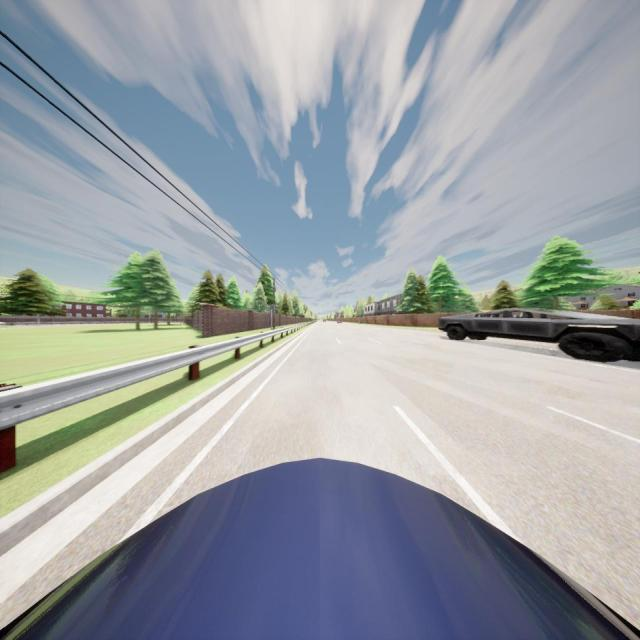Traffic_Signs: (270, 304, 276, 315)
Vehicle: (0, 456, 640, 640), (438, 308, 640, 361), (337, 319, 342, 324), (322, 319, 326, 323)
